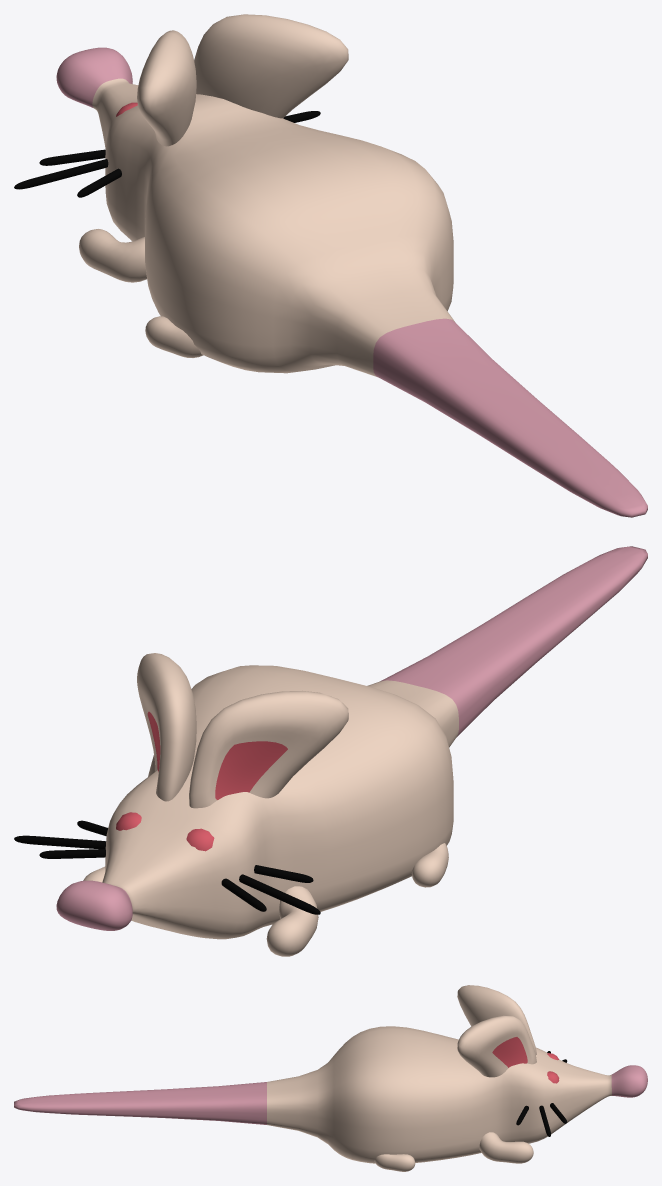
File: rat.fbx
3 views of the same model, one above another, from view 1: azimuth 30°, elevation 25°; view 2: azimuth 150°, elevation 25°; view 3: azimuth 270°, elevation 25° (orthographic). The views are drawn at different scales.
Parts seen in each view (by area): view 1: Cube.001, Cube.005, Cube.004, Cube.003, Cube.006; view 2: Cube.001, Cube.005, Cube.003, Cube.004, Cube.006, Cube.002; view 3: Cube.001, Cube.005, Cube.004, Cube.006, Cube.003.
Boxes of the visible parts, x1,y1,x2,y2 form: Cube.001: (56,47,647,517); Cube.005: (137,14,348,146); Cube.004: (79,229,146,282); Cube.003: (14,111,320,197); Cube.006: (145,316,203,357); Cube.001: (56,546,647,939); Cube.005: (137,653,348,808); Cube.003: (14,820,320,914); Cube.004: (83,866,318,956); Cube.006: (411,843,448,887); Cube.002: (116,812,214,851); Cube.001: (14,1026,647,1163); Cube.005: (457,985,536,1077); Cube.004: (479,1132,533,1163); Cube.006: (374,1154,415,1171); Cube.003: (516,1051,567,1136).
Size of the model in its own units: 249 by 182 by 784.
